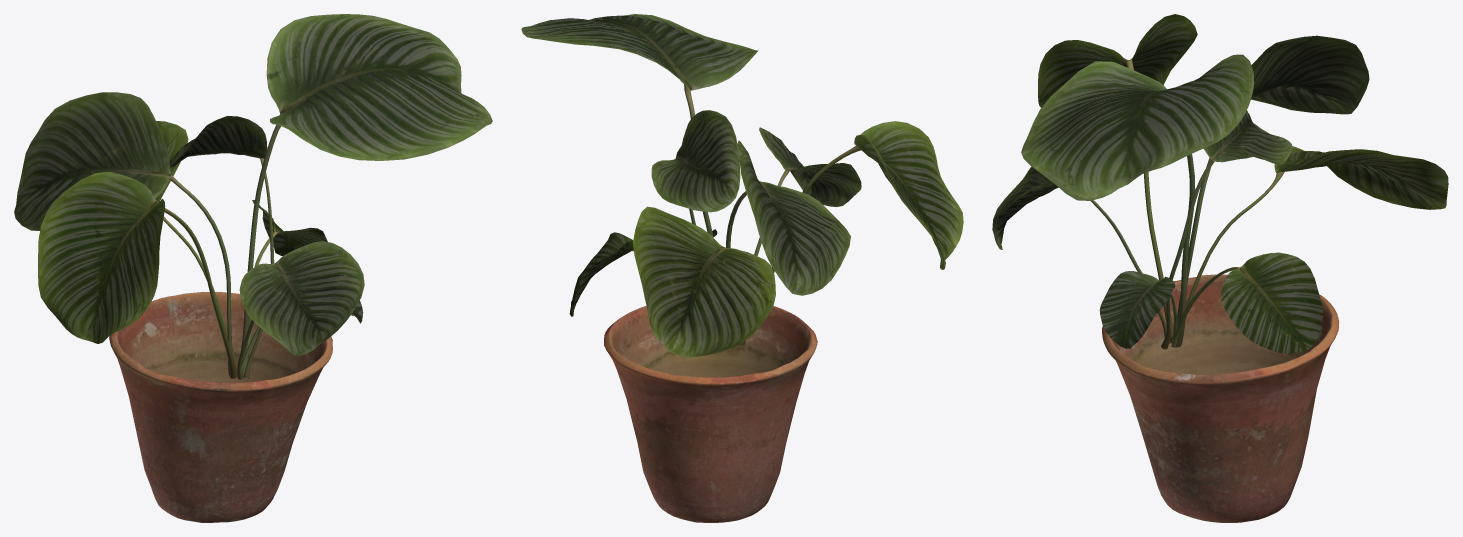
Rendered from plant__5.glb.
The picture shows the model from 3 angles, left to right: view 1: azimuth 30°, elevation 25°; view 2: azimuth 150°, elevation 25°; view 3: azimuth 270°, elevation 25°; orthographic projection. The views are drawn at different scales.
Visible parts, largest first — view 1: calathea_orbifolia_01_a.001, planter_pot_clay.002; view 2: calathea_orbifolia_01_a.001, planter_pot_clay.002; view 3: calathea_orbifolia_01_a.001, planter_pot_clay.002.
Part boxes in pixels (x1,y1,x2,y2): calathea_orbifolia_01_a.001: [14, 14, 492, 379]; planter_pot_clay.002: [109, 292, 332, 522]; calathea_orbifolia_01_a.001: [521, 14, 963, 357]; planter_pot_clay.002: [604, 306, 817, 522]; calathea_orbifolia_01_a.001: [992, 14, 1448, 353]; planter_pot_clay.002: [1102, 274, 1338, 522].
Size of the model in its own units: 0.9909 by 1.02 by 0.8672.
Materials: 2 (2 with a texture image).
